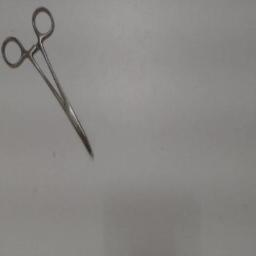Crile Artery Forceps: (0, 2, 98, 160)
